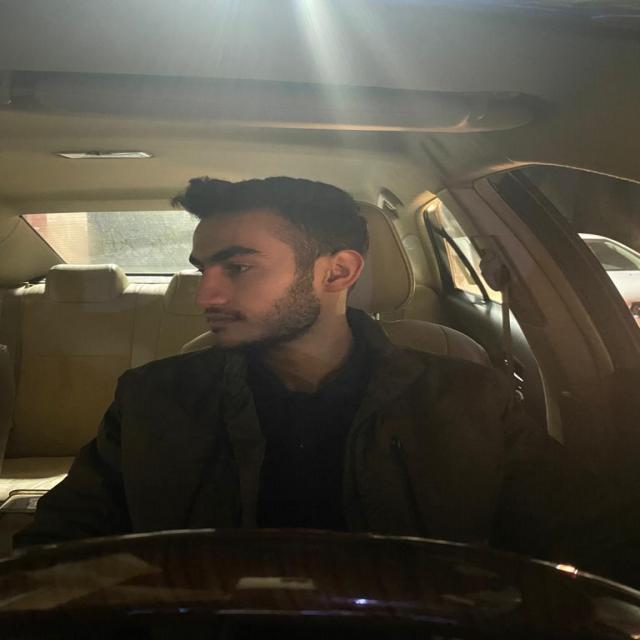LeftRight: (178, 169, 373, 354)
